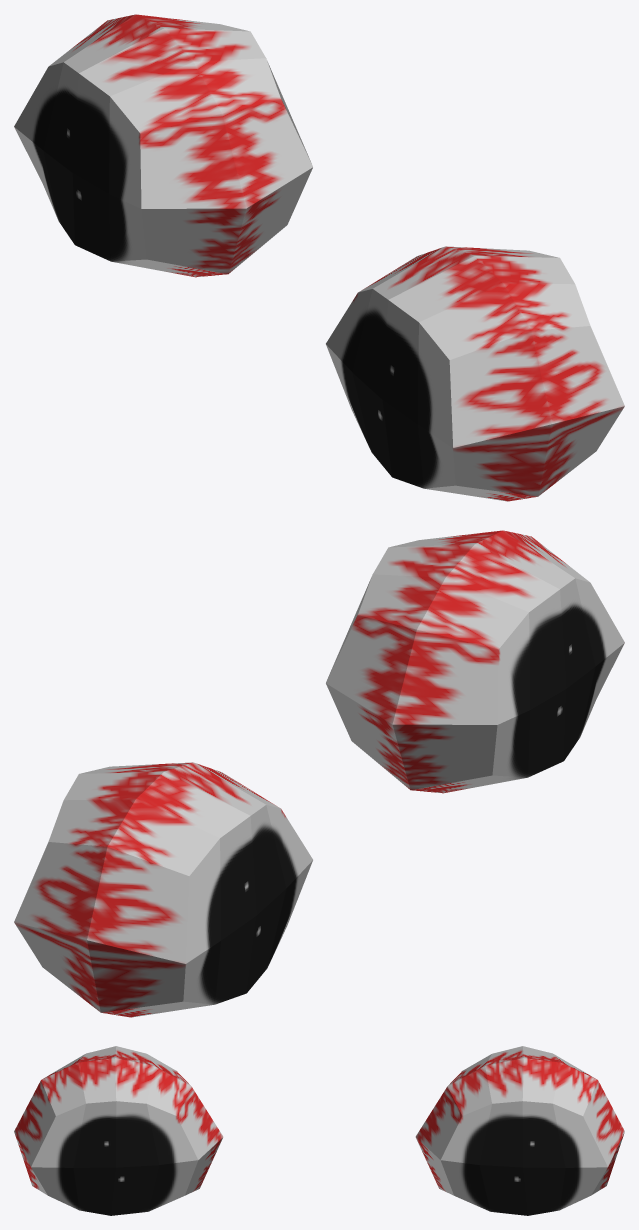
File: eyes.gltf
3 renders of one model, top to bottom at view 1: azimuth 30°, elevation 25°; view 2: azimuth 150°, elevation 25°; view 3: azimuth 270°, elevation 25°, orthographic. The views are drawn at different scales.
Parts seen in each view (by area): view 1: Cube; view 2: Cube; view 3: Cube.
Part boxes in pixels (left/top/right/bottom): Cube: left=14, top=14, right=624, bottom=501; Cube: left=14, top=530, right=624, bottom=1017; Cube: left=14, top=1046, right=624, bottom=1215.
Size of the model in its own units: 1.02 by 1.22 by 4.47.
1 material, 1 textured.
